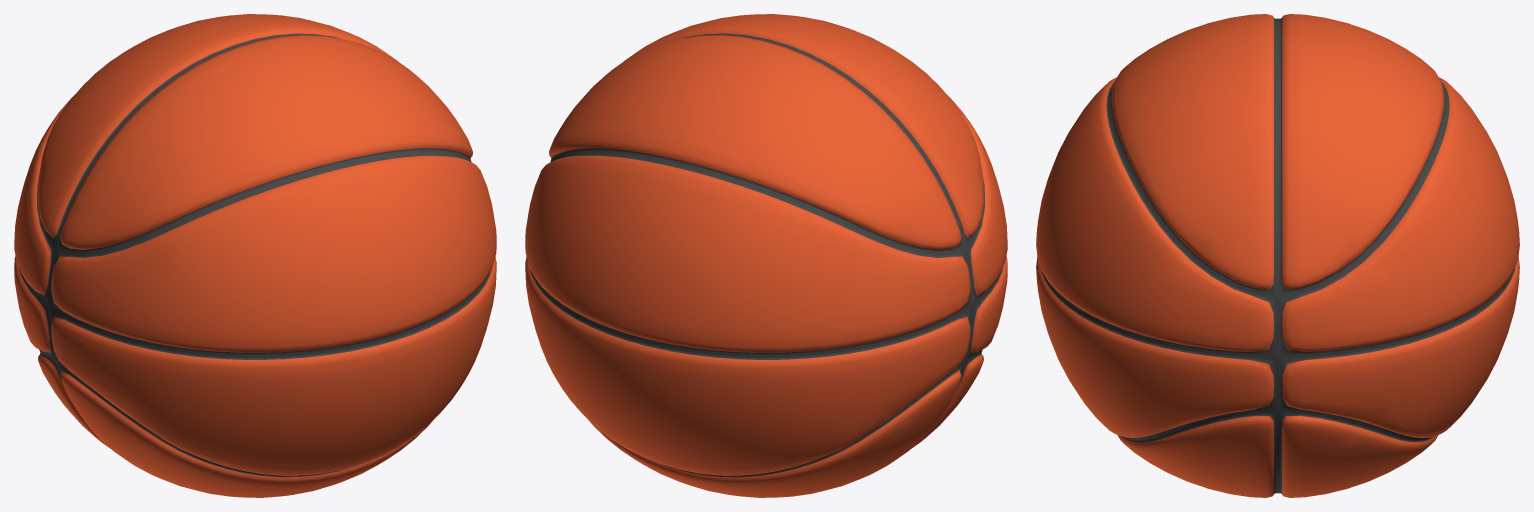
The model's file is Basketball.fbx.
3 views of the same model, side by side, from view 1: azimuth 30°, elevation 25°; view 2: azimuth 150°, elevation 25°; view 3: azimuth 270°, elevation 25° (orthographic).
Parts seen in each view (by area): view 1: Cube; view 2: Cube; view 3: Cube.
Boxes of the visible parts, left/top/right/bottom form: Cube: left=14, top=14, right=496, bottom=497; Cube: left=525, top=14, right=1007, bottom=497; Cube: left=1036, top=14, right=1519, bottom=497.
Bounding box in the file's own units: 162 × 162 × 162.
